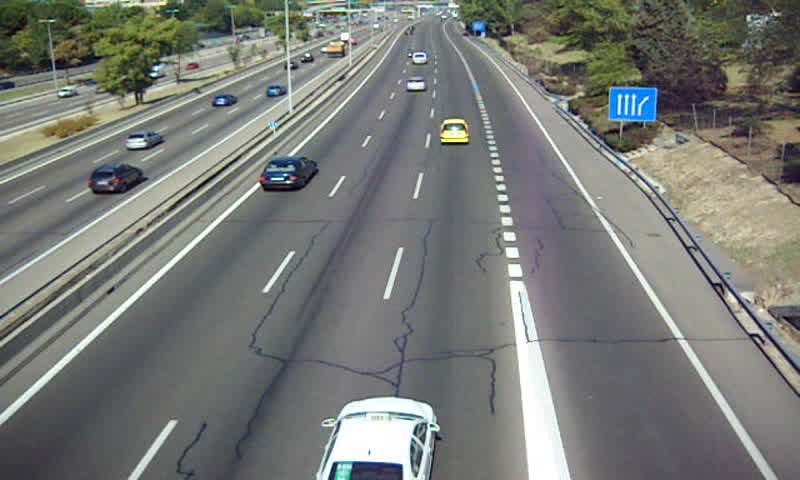car: (315, 397, 437, 480), (259, 156, 316, 192), (440, 118, 470, 145), (406, 76, 427, 93), (412, 51, 427, 64)
